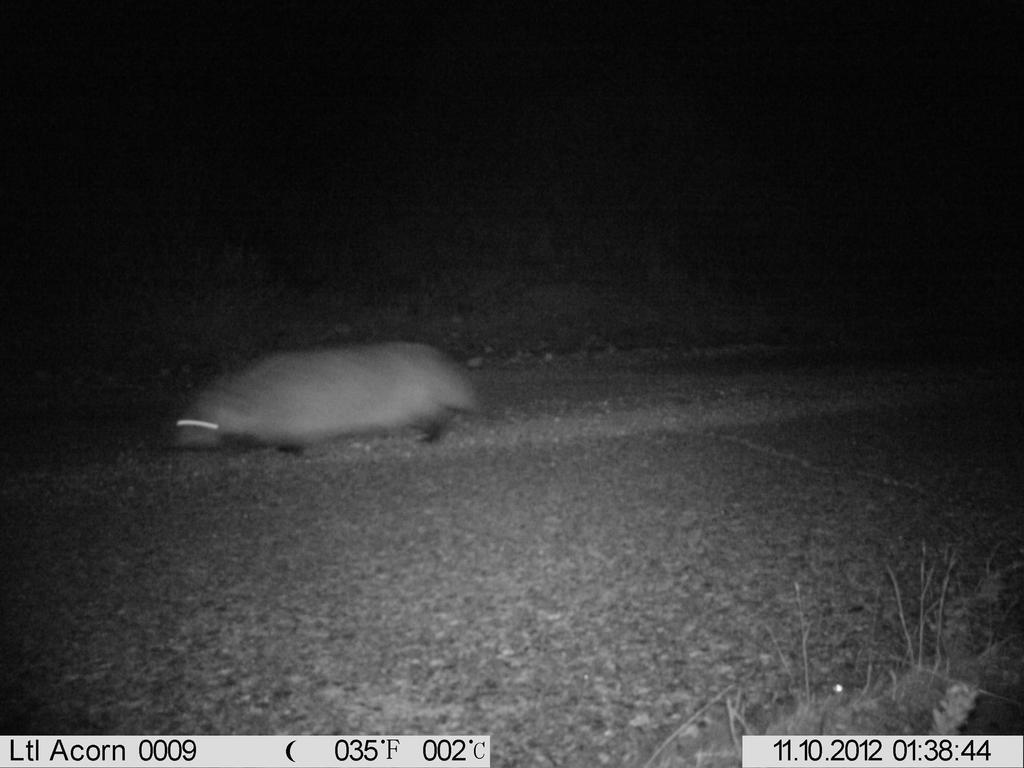badger: (177, 338, 495, 471)
